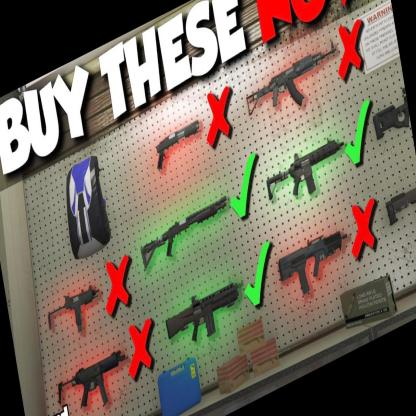rifle: (258, 129, 352, 211), (247, 44, 341, 126), (137, 192, 230, 274), (164, 279, 242, 358), (52, 348, 128, 416)
